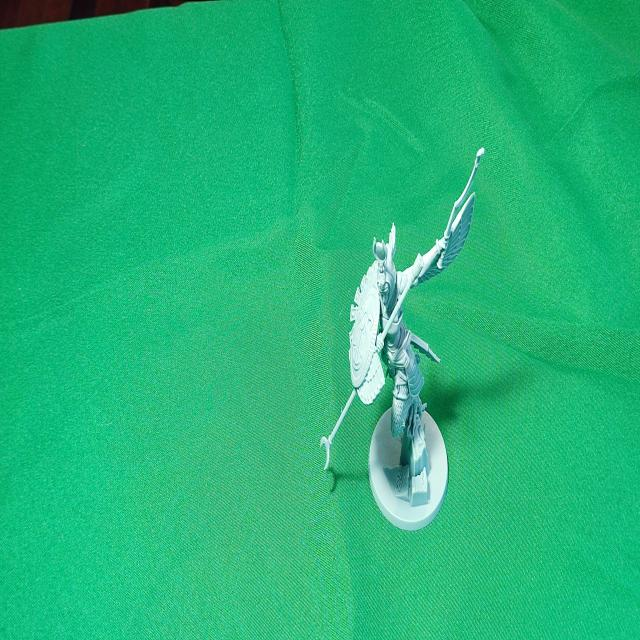isis: (306, 109, 494, 559)
